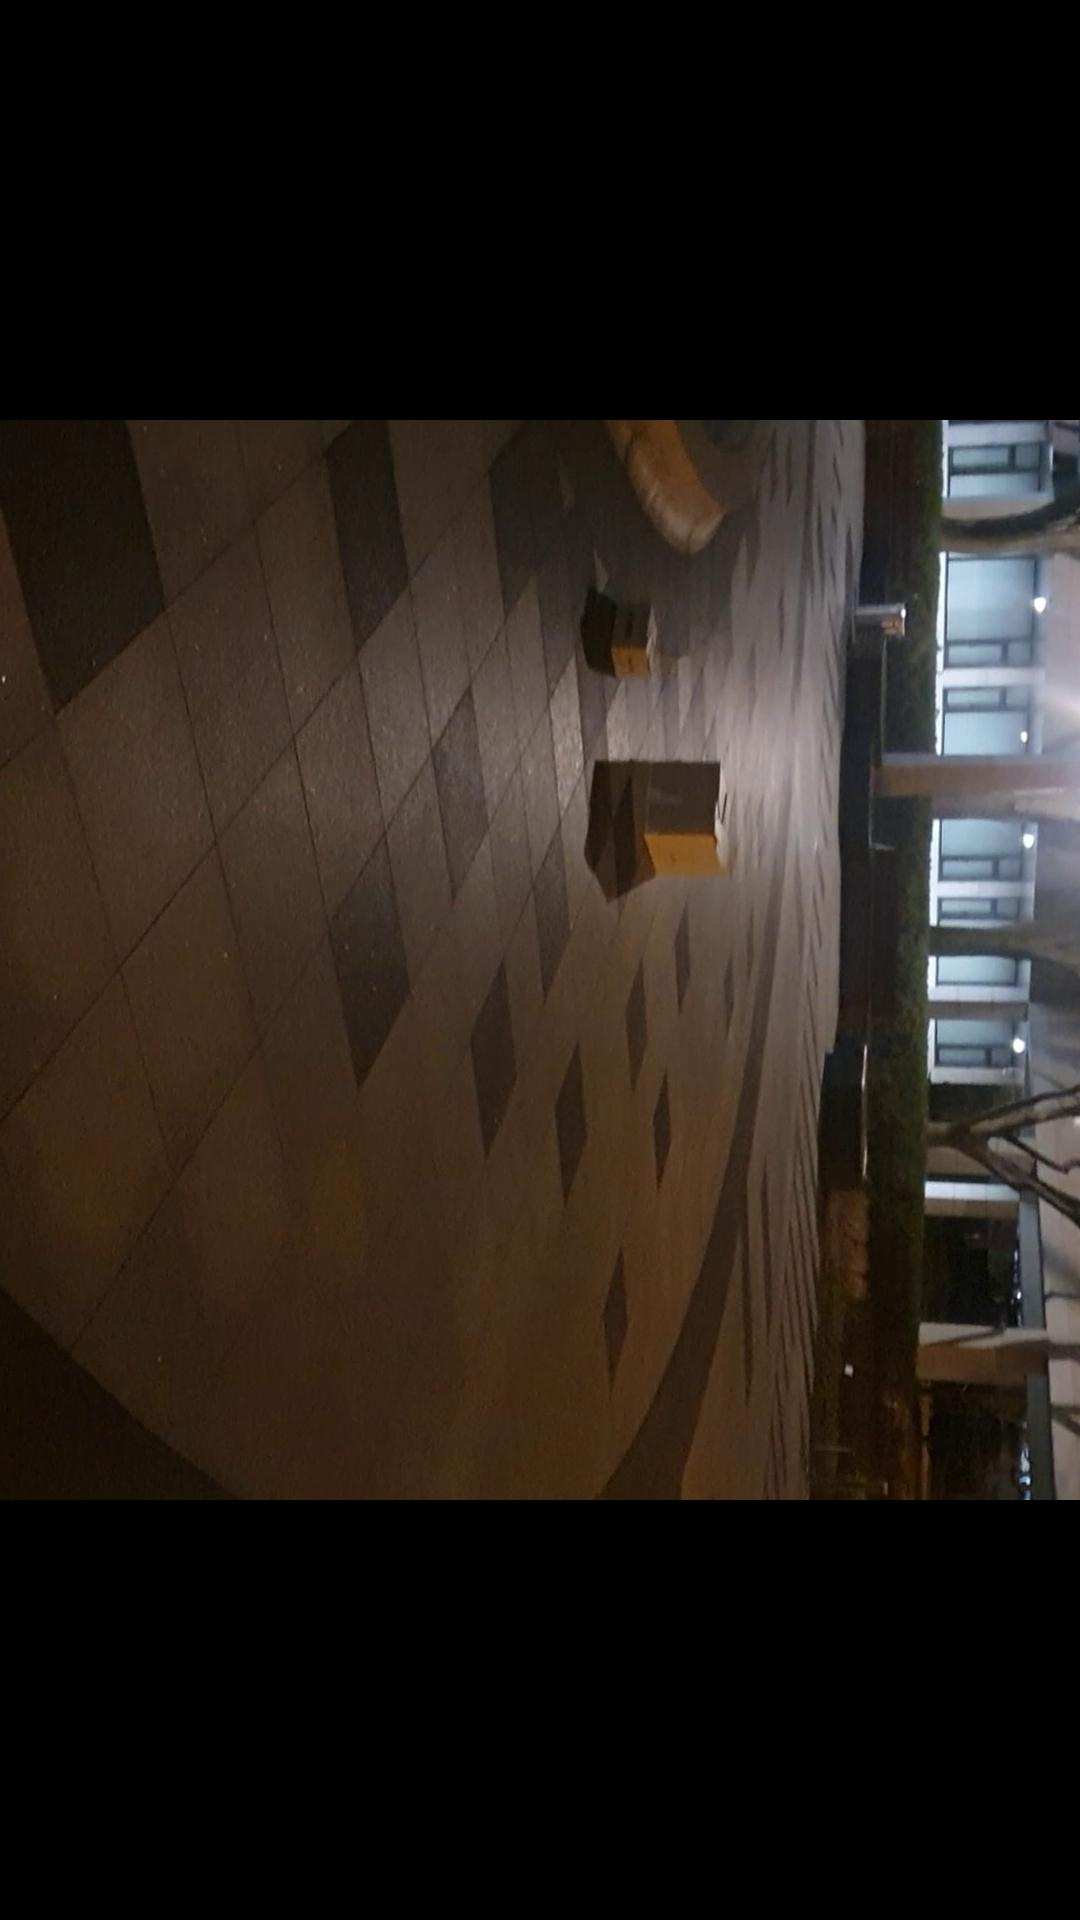Box: (628, 761, 740, 880), (603, 597, 667, 692)
